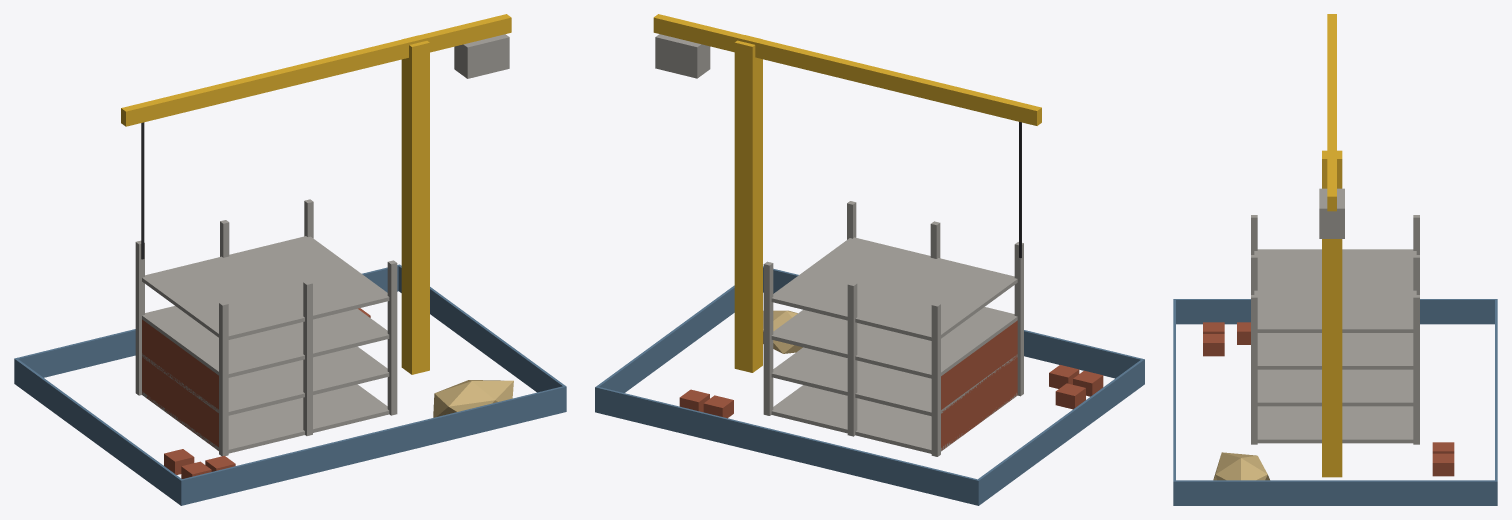
Rendered from site.glb.
3 views of the same model, side by side, from view 1: azimuth 30°, elevation 25°; view 2: azimuth 150°, elevation 25°; view 3: azimuth 270°, elevation 25° (orthographic). The views are drawn at different scales.
Visible parts, largest first — view 1: site; view 2: site; view 3: site.
Boxes of the visible parts, x1,y1,x2,y2 form: site: (14, 14, 566, 505); site: (595, 14, 1144, 505); site: (1173, 14, 1497, 505).
Size of the model in its own units: 34 by 27.7 by 24.
